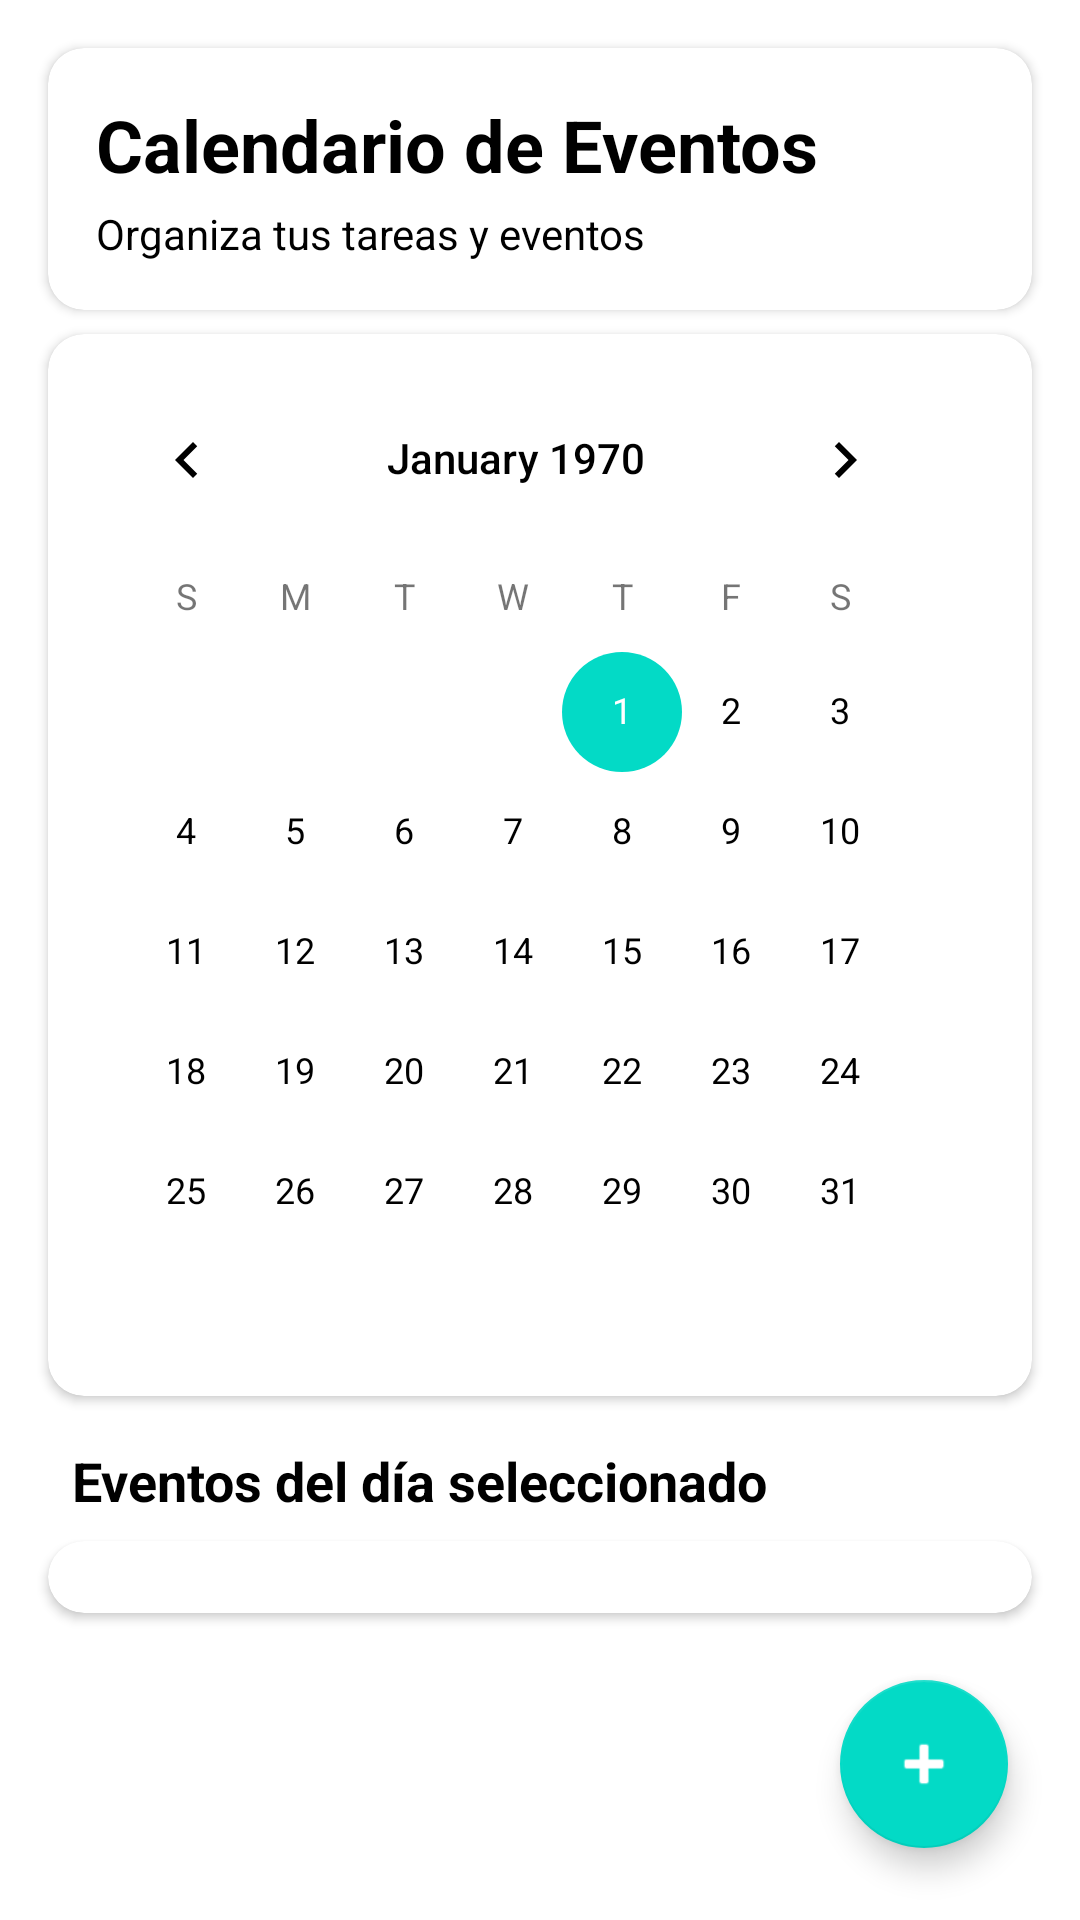

Where to tap for icons on this 1080 × 1920 app screen, as [x,y]:
Agregar nuevo evento: [924,1764]
